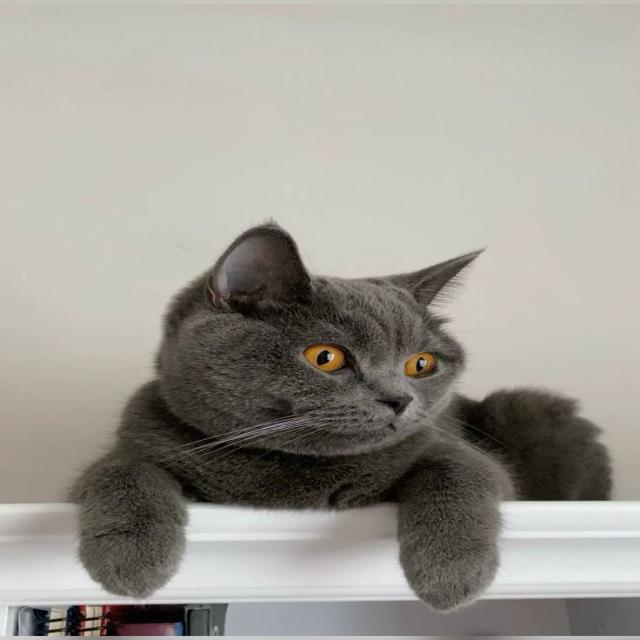british shorthair: (66, 172, 603, 629)
